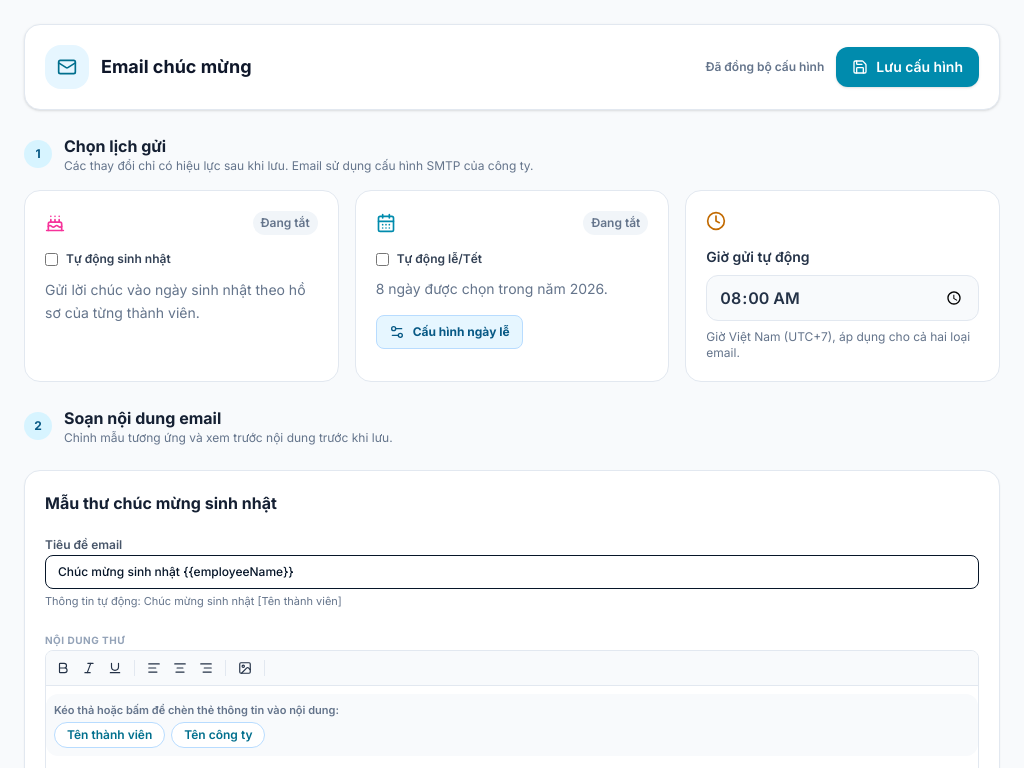
Test case: CelebrationEmailTab variable palettes › rejects missing names and duplicate holiday dates before saving
The width and height of the screenshot is (1024, 768).
Click the button "Cấu hình ngày lễ" at (449, 332), box [376,315,523,349]
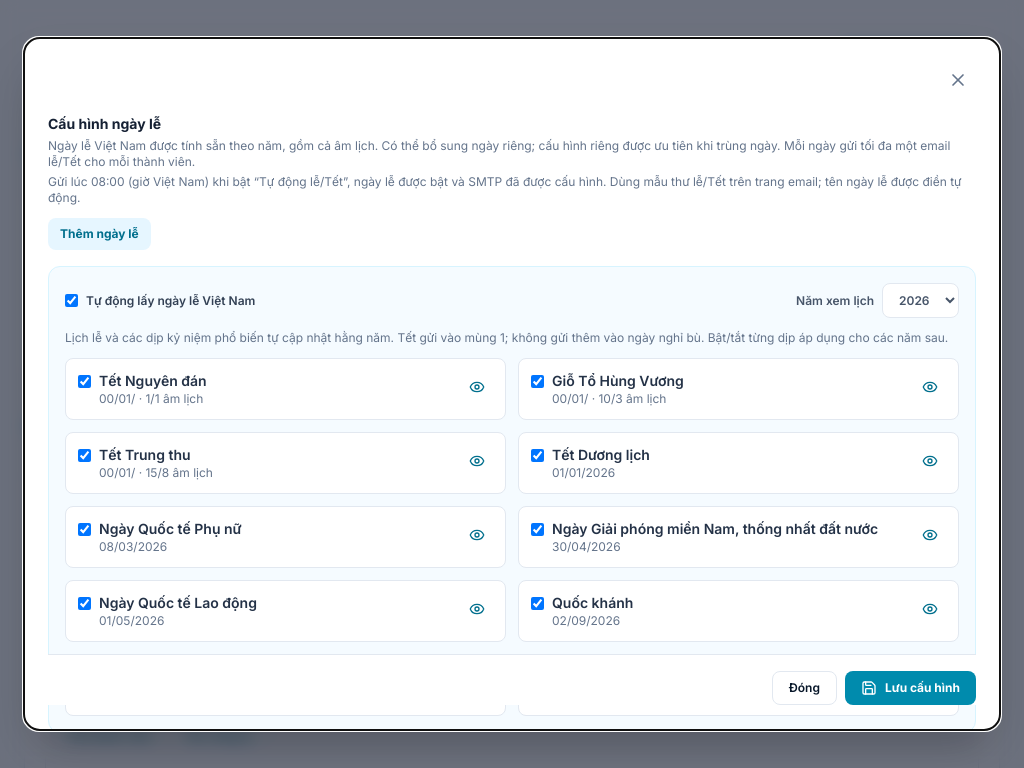
Click the button "Lưu cấu hình" at (910, 689), box [845,672,976,706]
(page scrolled)
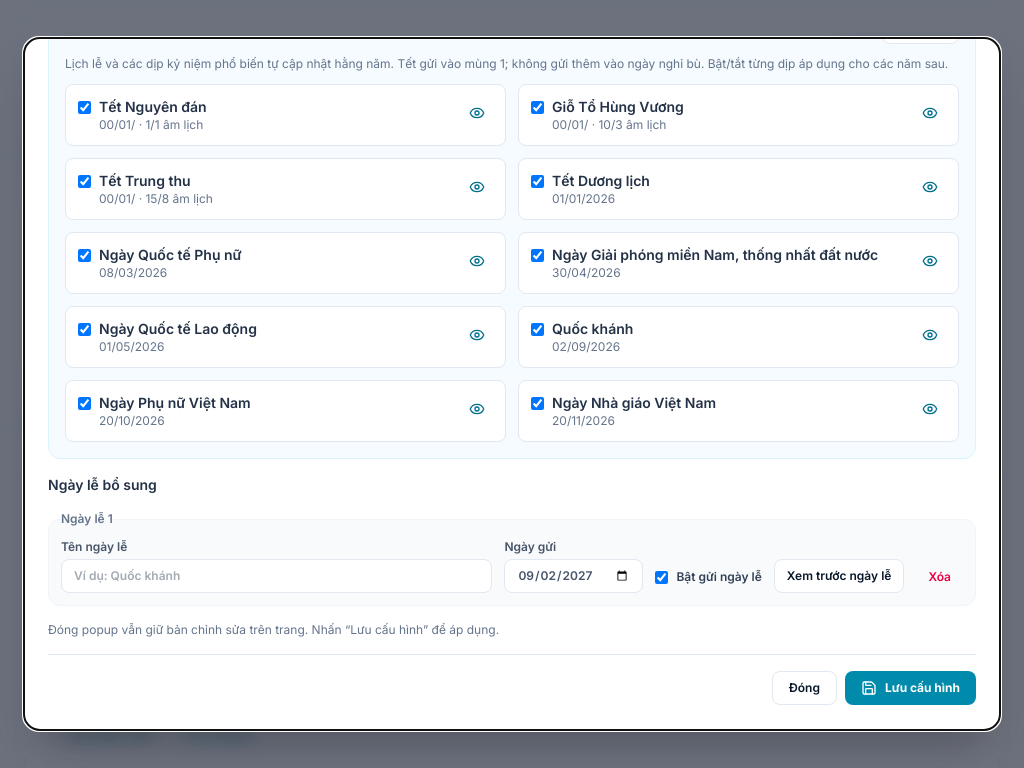
Type "Quốc khánh" into the field labelled "Tên ngày lễ" at (277, 576), box [61,559,492,593]
(page scrolled)
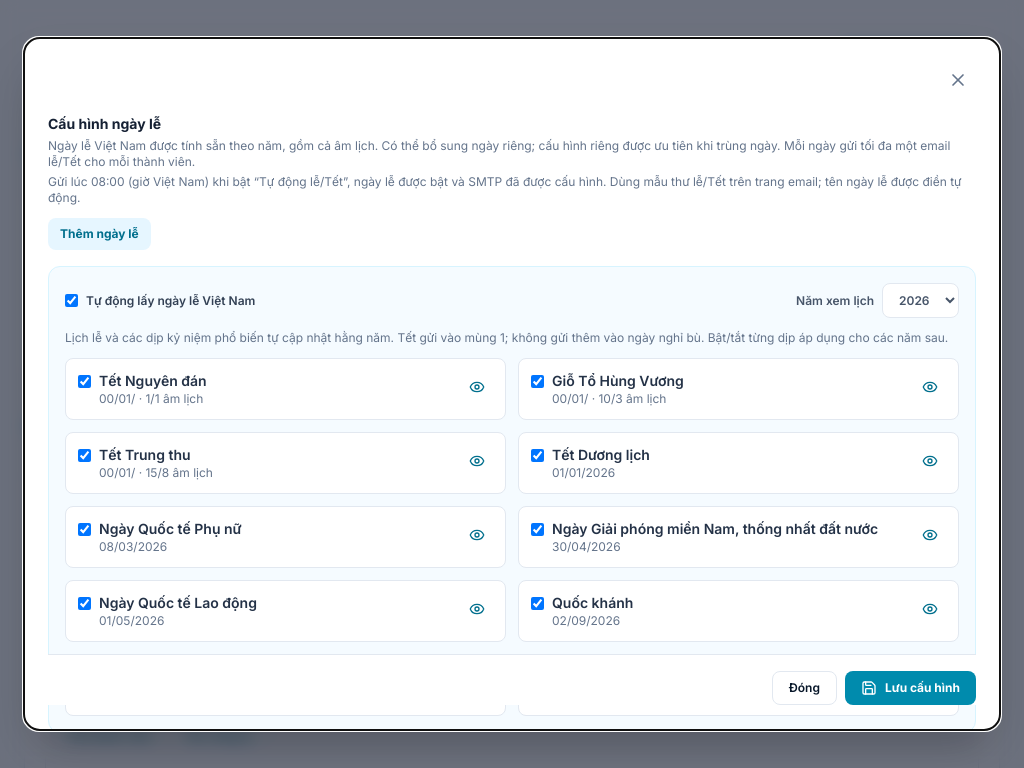
Click the button "Thêm ngày lễ" at (99, 234), box [48,218,151,250]
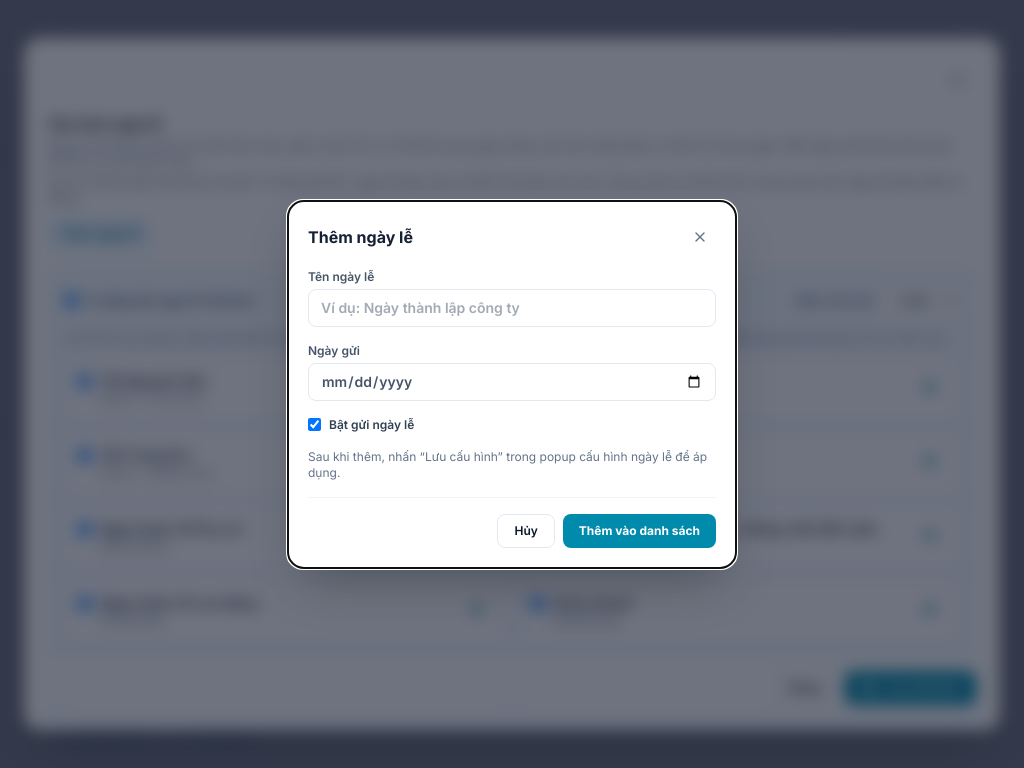
Type "Ngày khác" into the field labelled "Tên ngày lễ" at (512, 308), box [308,288,716,326]
Type "2027-09-02" into the date field labelled "Ngày gửi" at (512, 382), box [308,362,716,400]
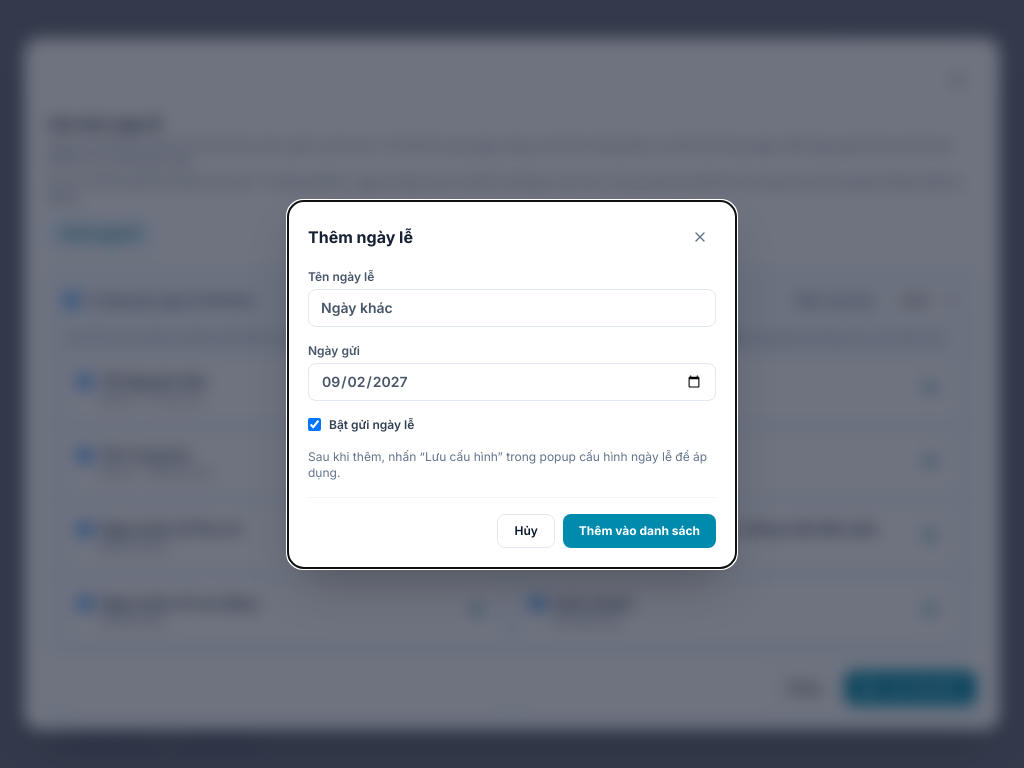
Click the button "Thêm vào danh sách" at (639, 530), box [563,514,716,548]
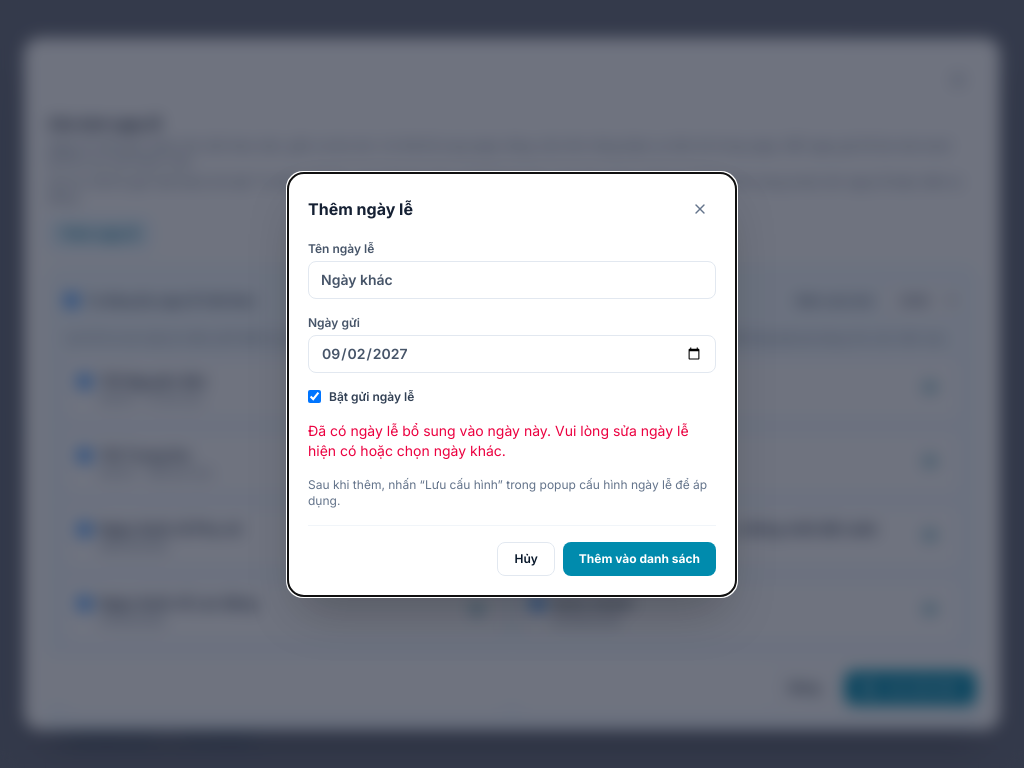
Check: the message shows "Đã có ngày lễ bổ sung", box [308,422,689,458]
